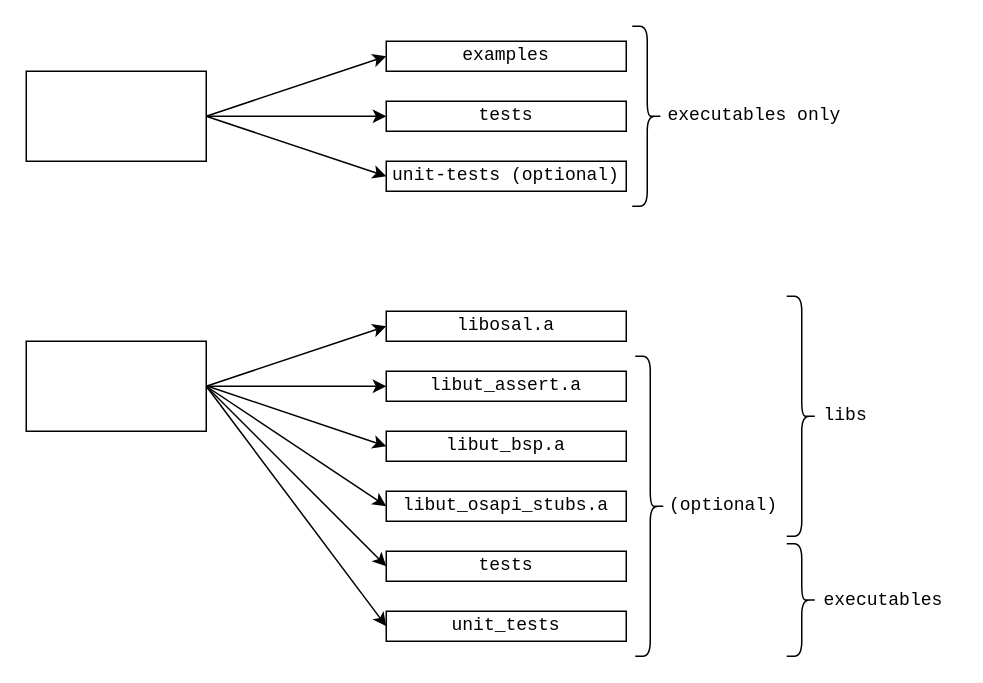
Some shapes in this 983 by 683 pixel diagram are drawn without their labels. The shapes that lost their labels are listed below. From the top down, each one's box as (x1, y1, x2, y2) in pixels, then its label:
(25, 70, 206, 161): make
(25, 340, 206, 431): cmake
